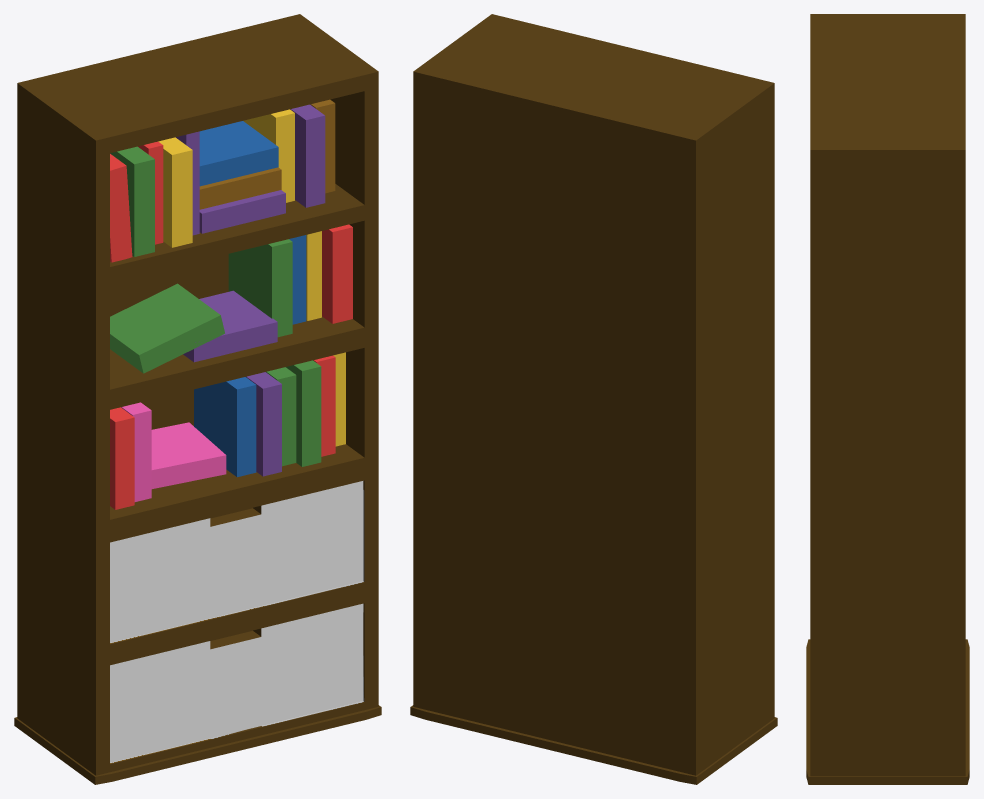
Rendered from geo_MediumBookShelf.fbx.
3 views of the same model, side by side, from view 1: azimuth 30°, elevation 25°; view 2: azimuth 150°, elevation 25°; view 3: azimuth 270°, elevation 25° (orthographic).
Parts seen in each view (by area): view 1: pCube63, pCube95, pCube117, pCube90, pCube84, pCube116, pCube96, pCube82, pCube88, pCube93, pCube80, pCube120 (+15 smaller); view 2: pCube63; view 3: pCube63.
Part boxes in pixels (box(x1,y1,x2,y2)): pCube63: box(14, 14, 381, 784); pCube95: box(110, 283, 224, 373); pCube117: box(194, 377, 256, 477); pCube90: box(228, 239, 292, 337); pCube84: box(199, 121, 278, 186); pCube116: box(151, 422, 226, 488); pCube96: box(183, 290, 277, 362); pCube82: box(158, 137, 192, 247); pCube88: box(290, 104, 325, 207); pCube93: box(322, 224, 352, 323); pCube80: box(110, 146, 154, 256); pCube120: box(286, 360, 321, 466); pCube63: box(410, 14, 777, 784); pCube63: box(806, 14, 969, 784).
Size of the model in its own units: 102 by 219 by 51.1.
Materials: 1 (1 with a texture image).
